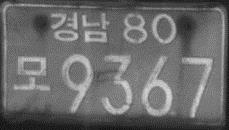0: (150, 12, 177, 46)
3: (100, 53, 134, 116)
6: (139, 54, 174, 117)
7: (179, 54, 214, 120)
8: (122, 11, 148, 44)
9: (60, 52, 95, 116)
경남_O: (49, 11, 110, 44)
모: (11, 53, 52, 92)
